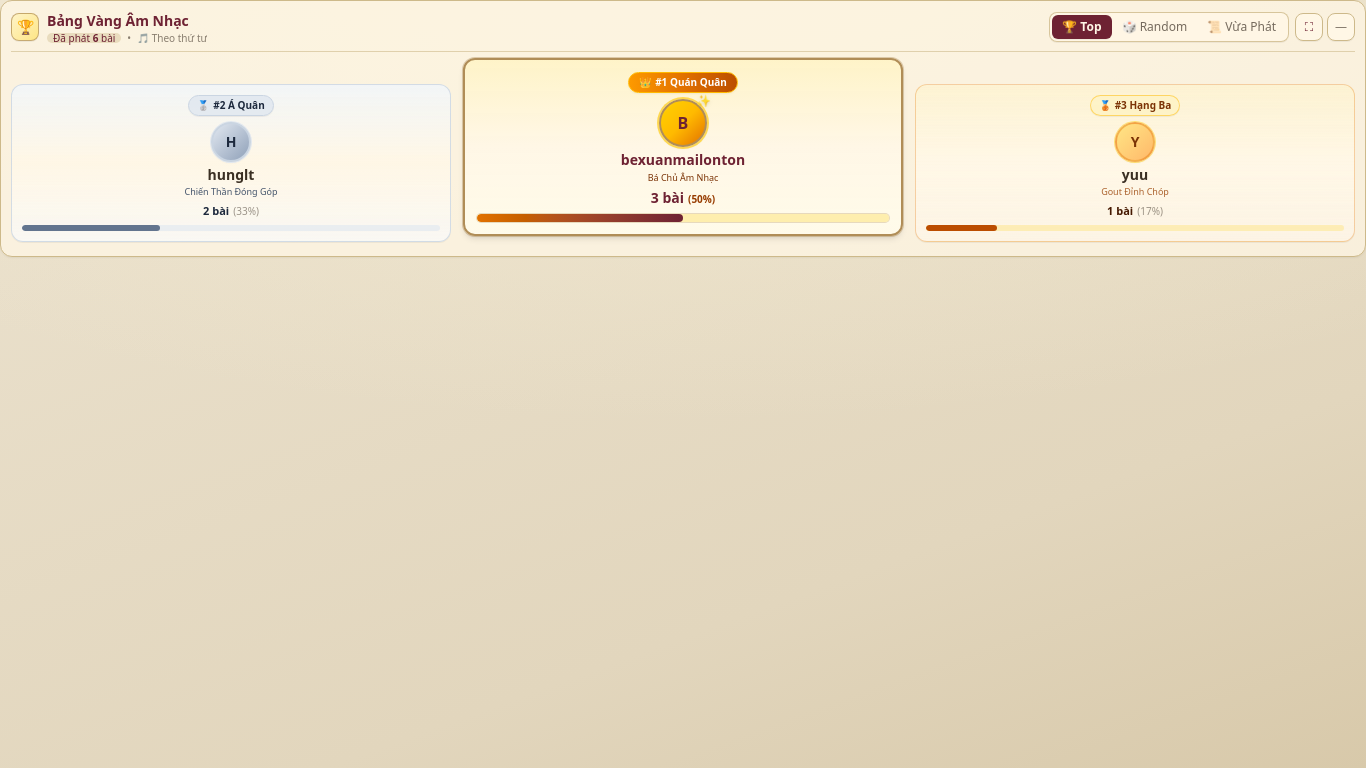
Test: RoomLeaderboard › switches to Vừa Phát (History) tab cleanly
Click the button "📜 Vừa Phát" at (1242,27), box [1197, 15, 1286, 39]
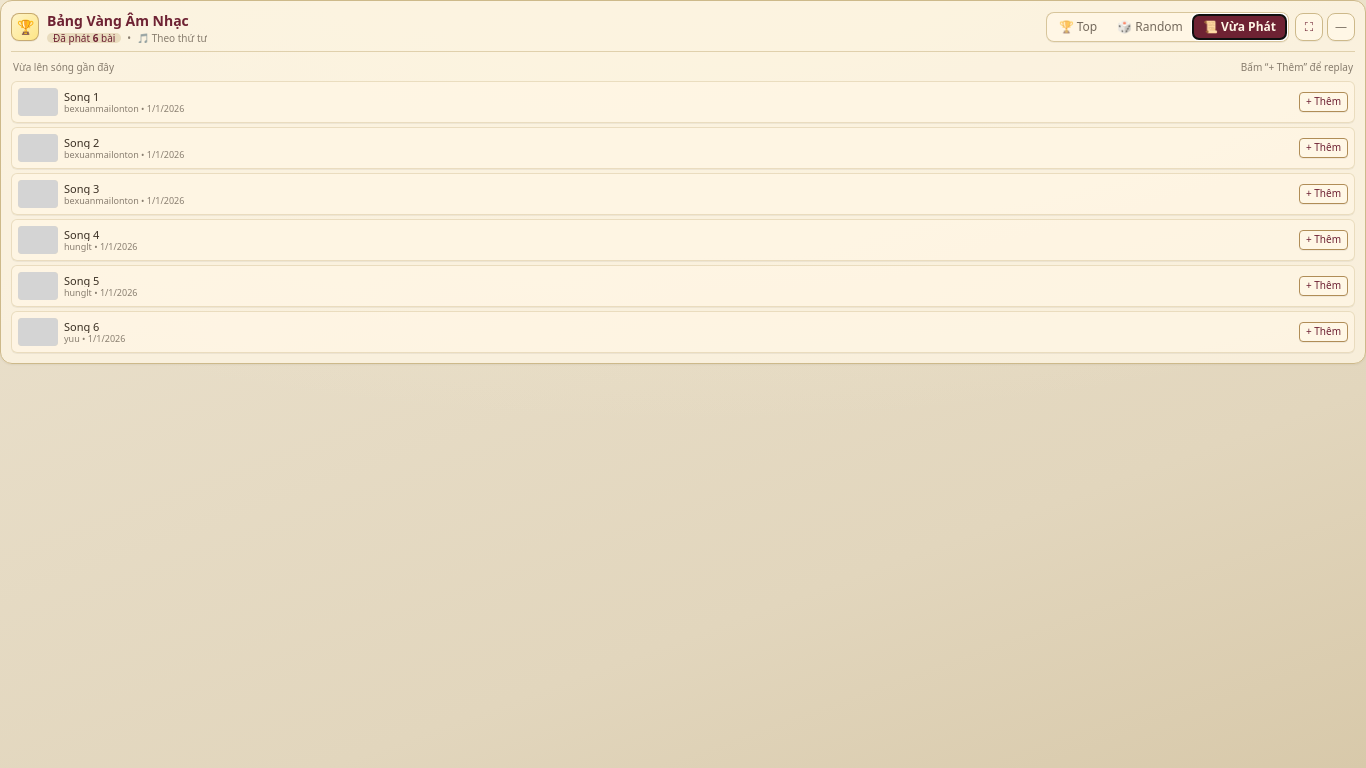
Now the text "Vừa lên sóng gần đây" is shown, box [13, 60, 114, 75]
Now the text "Song 1" is shown, box [64, 88, 99, 104]
Now the text "Song 6" is shown, box [64, 318, 99, 334]
